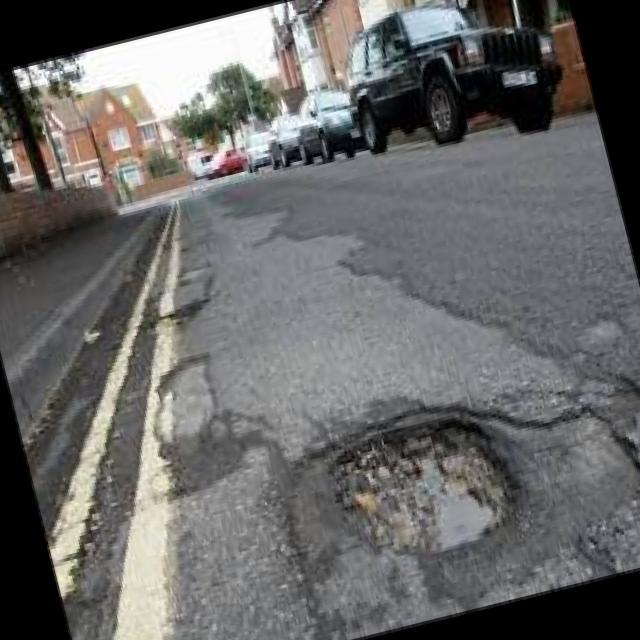Pothole: (313, 391, 526, 585)
